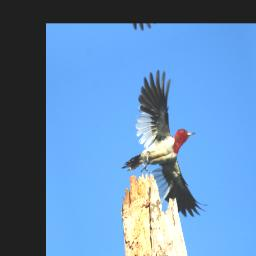Woodpecker: (105, 62, 211, 236)
